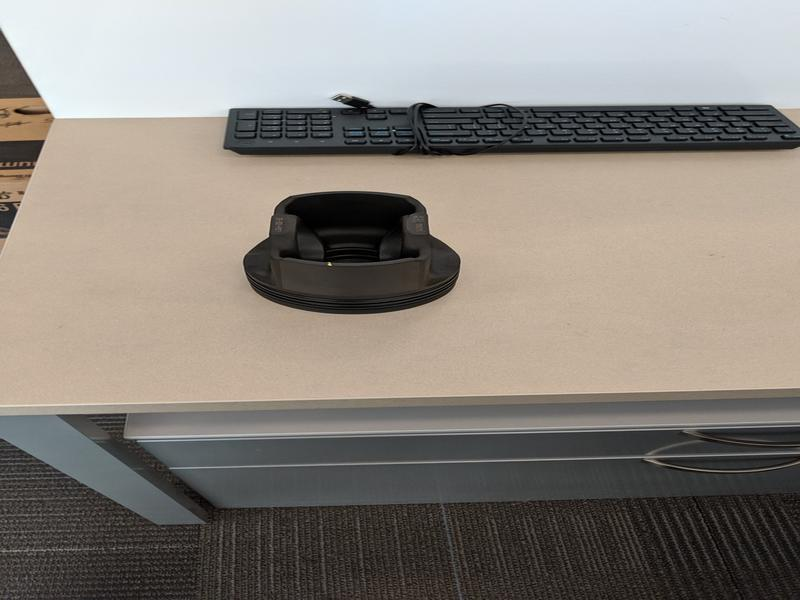piston: (241, 189, 466, 317)
